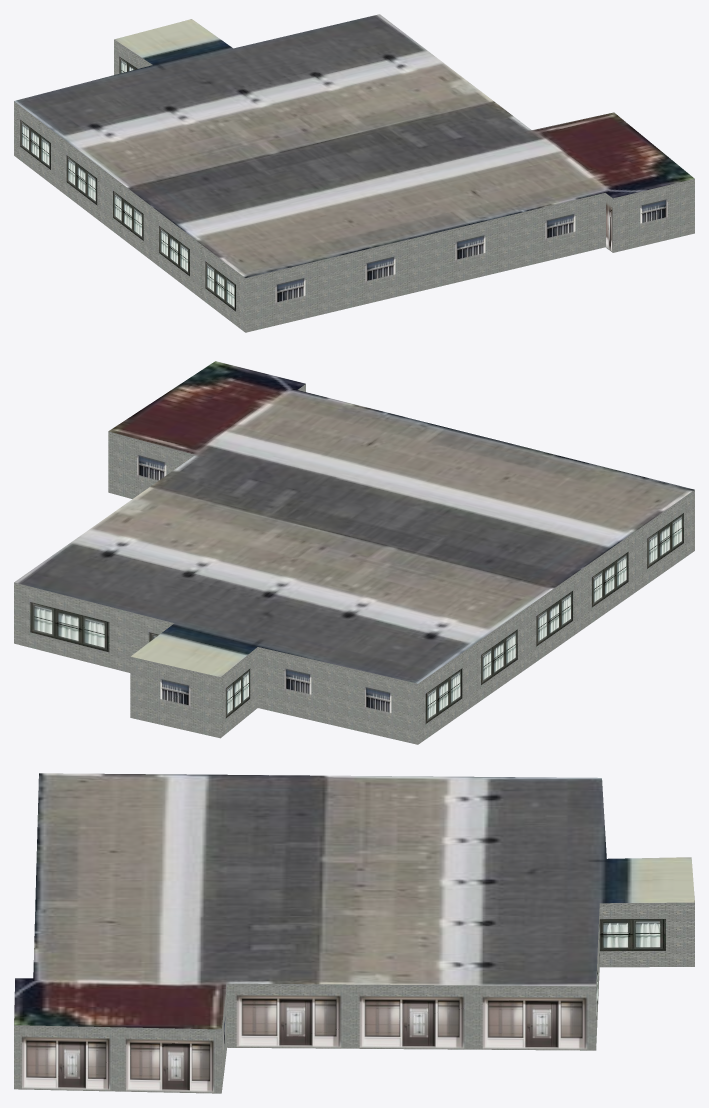
The model's file is tile_LOD8_r6_c4.glb.
The picture shows the model from 3 angles, top to bottom: view 1: azimuth 30°, elevation 25°; view 2: azimuth 150°, elevation 25°; view 3: azimuth 270°, elevation 25°; orthographic projection. The views are drawn at different scales.
Bounding box in the file's own units: 29.98 × 3.51 × 33.68.
Materials: 4 (4 with a texture image).
